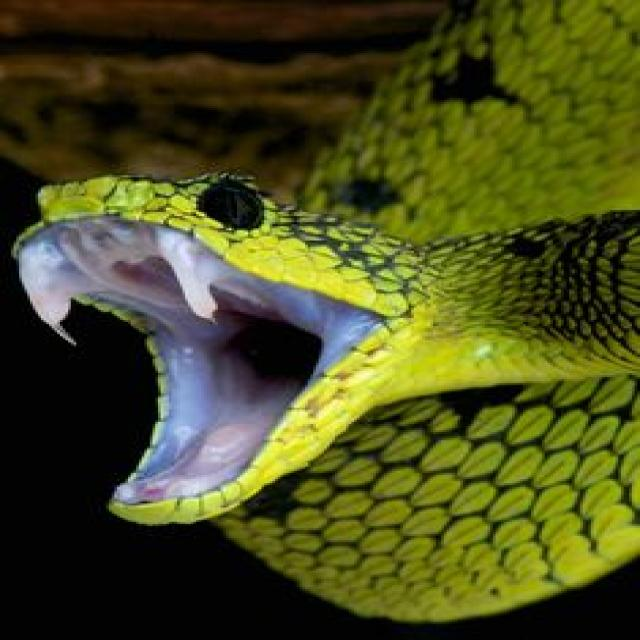Carnivorous: (11, 0, 640, 626)
